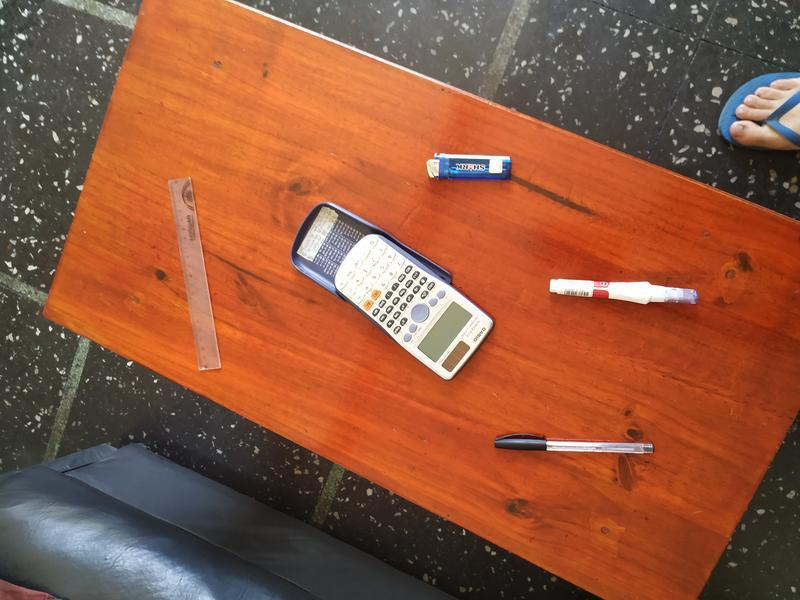calculadora: (331, 232, 495, 386)
corrector: (541, 270, 709, 315)
encendedor: (423, 141, 516, 186)
lapicera: (490, 428, 663, 462)
regla: (162, 172, 227, 378)
